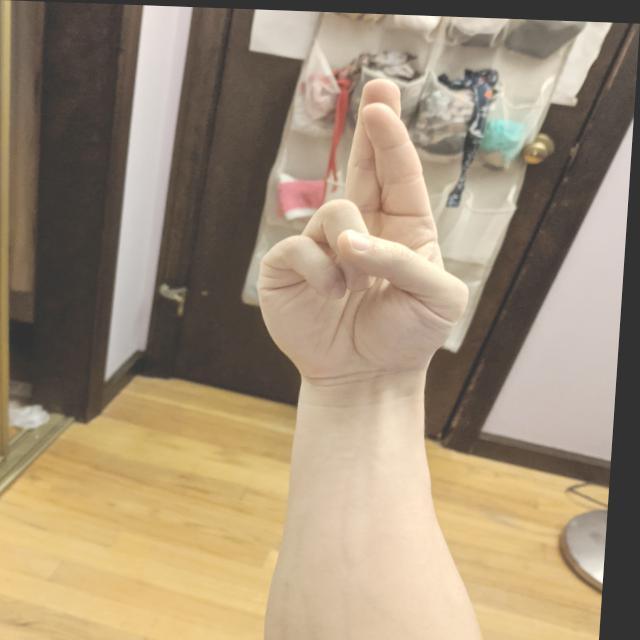R: (245, 65, 494, 392)
